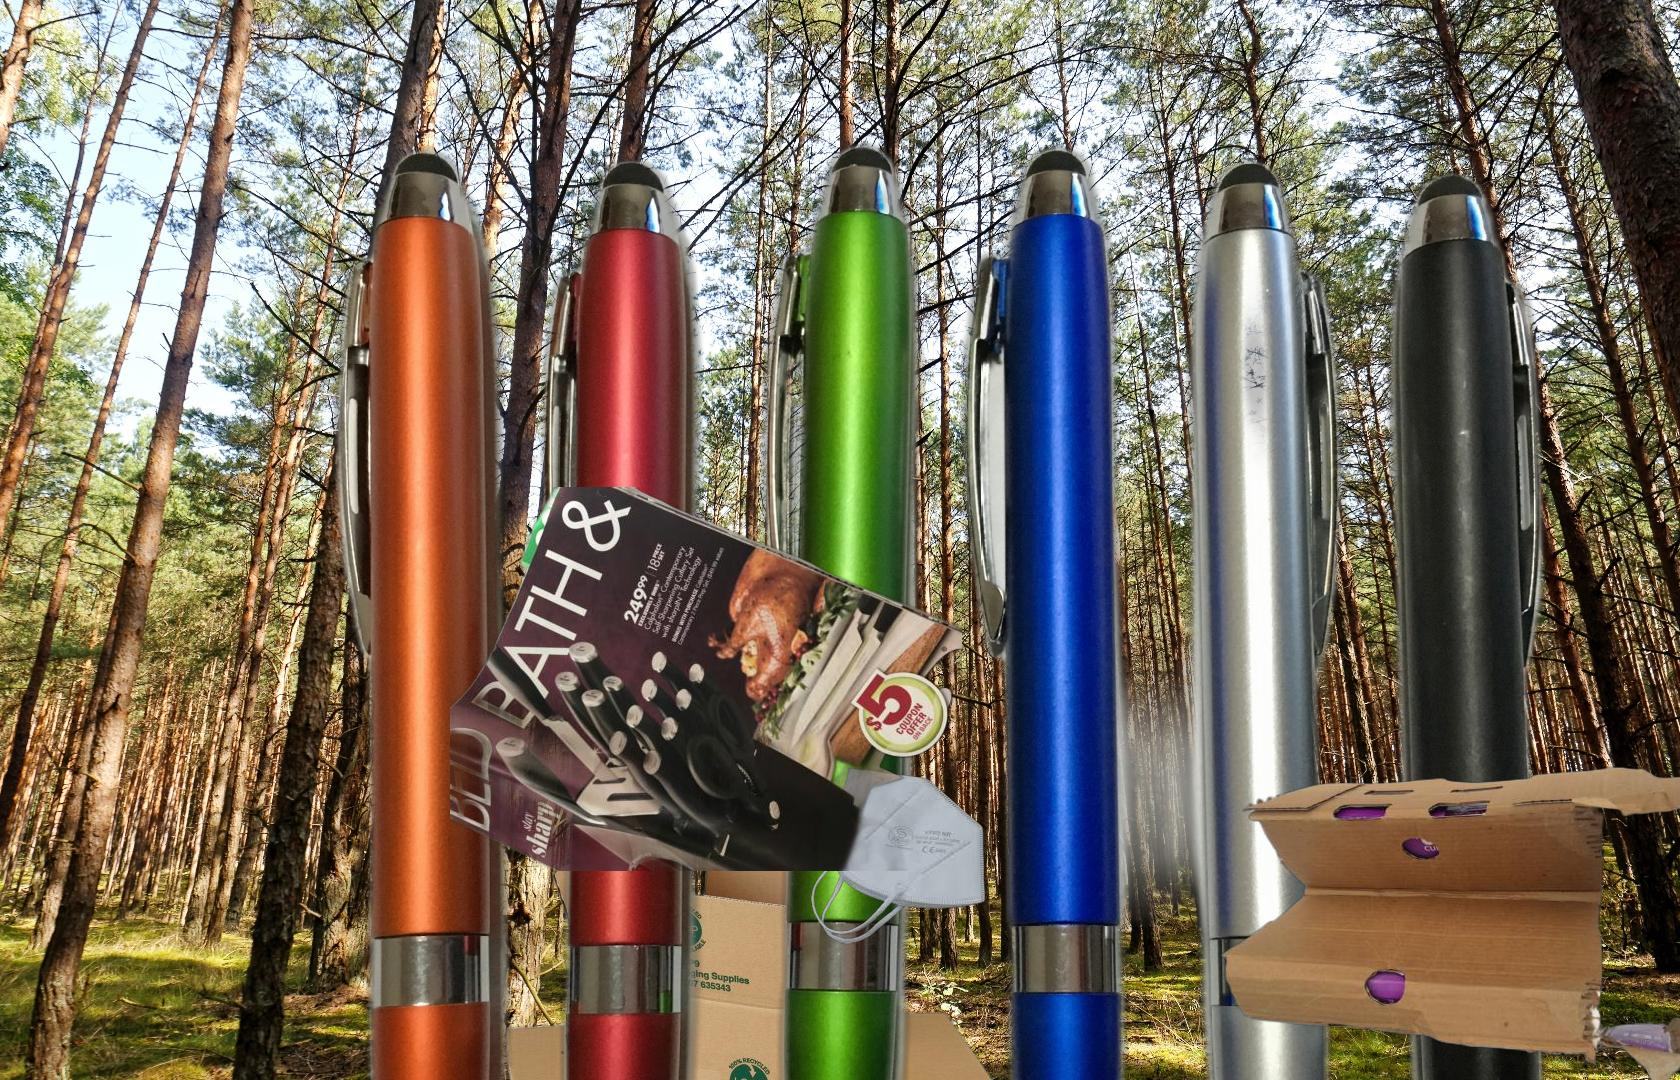paper: (451, 487, 962, 871)
penholder: (321, 131, 1561, 1080)
trash: (808, 765, 988, 947)
trashbox-cardboard: (500, 797, 1043, 1080), (1216, 765, 1680, 1080), (1638, 470, 1680, 703)
